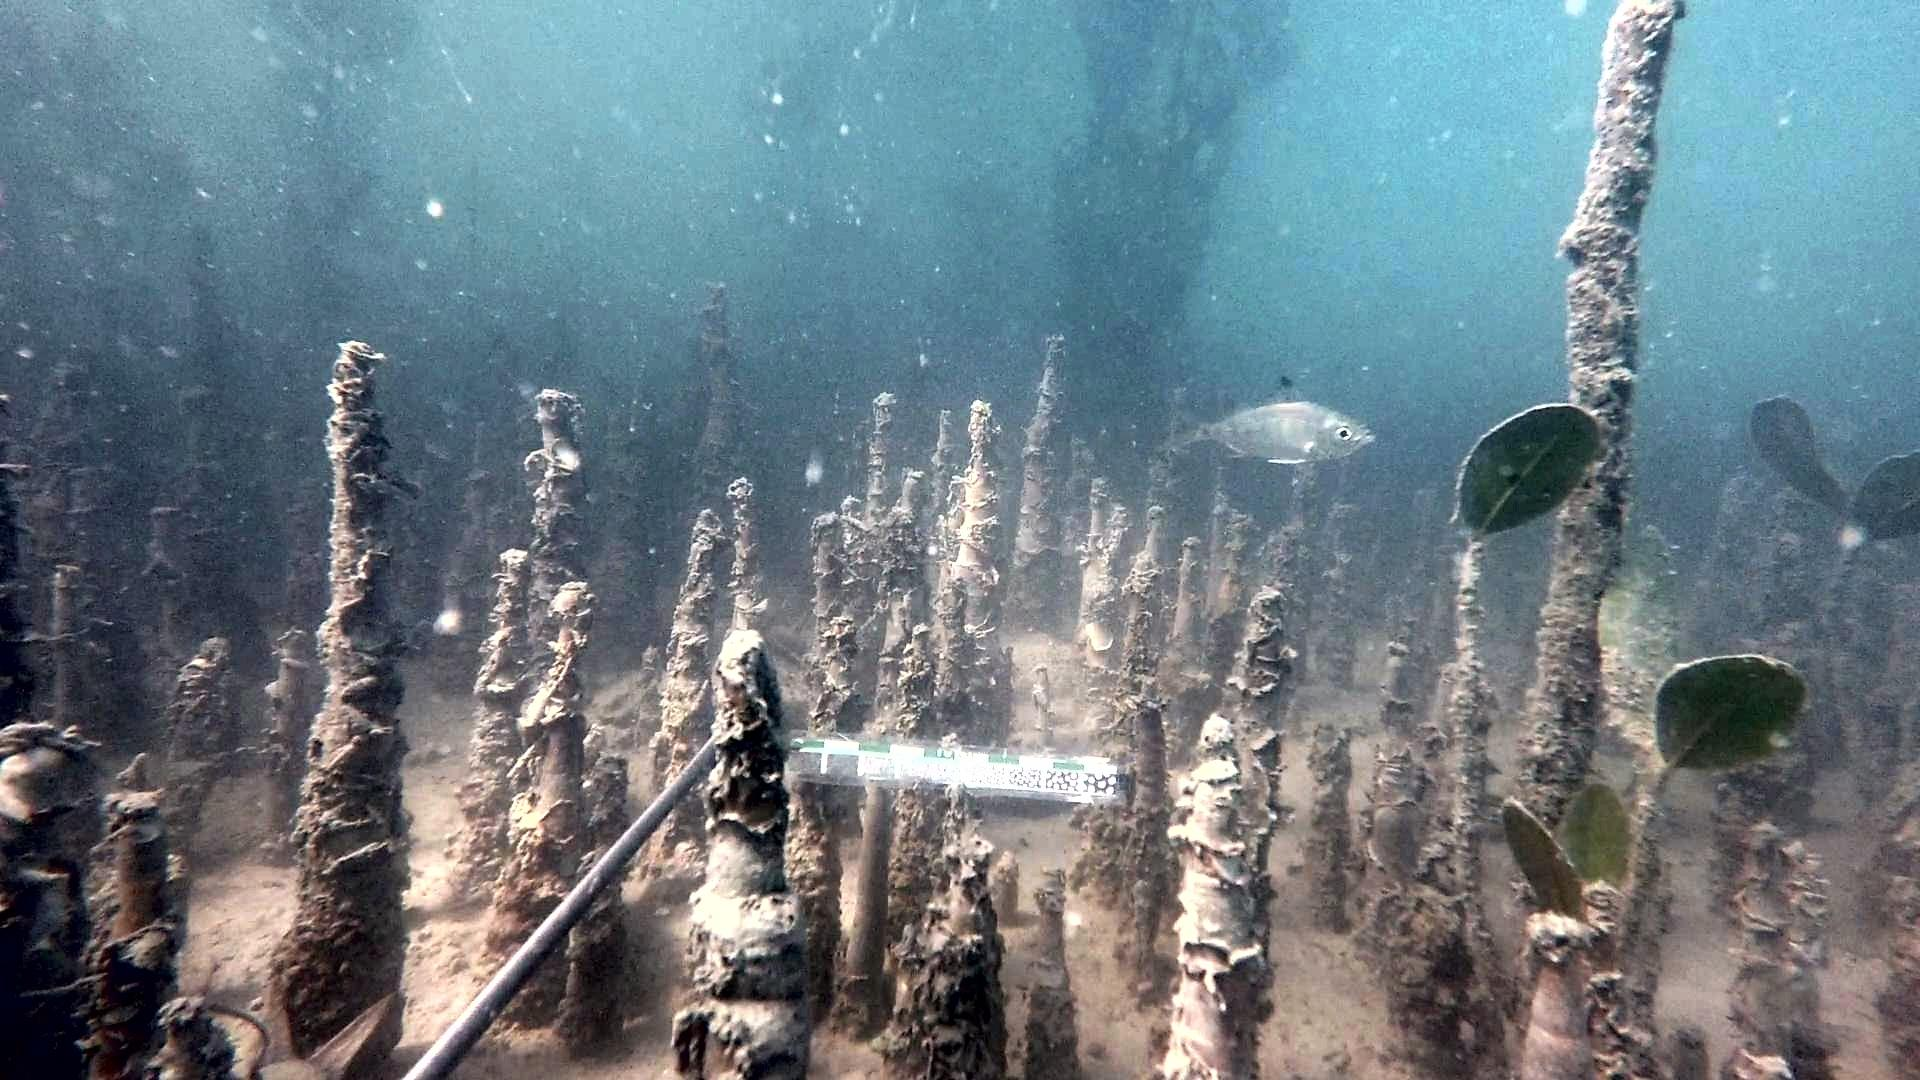gerres: (1164, 373, 1379, 465)
